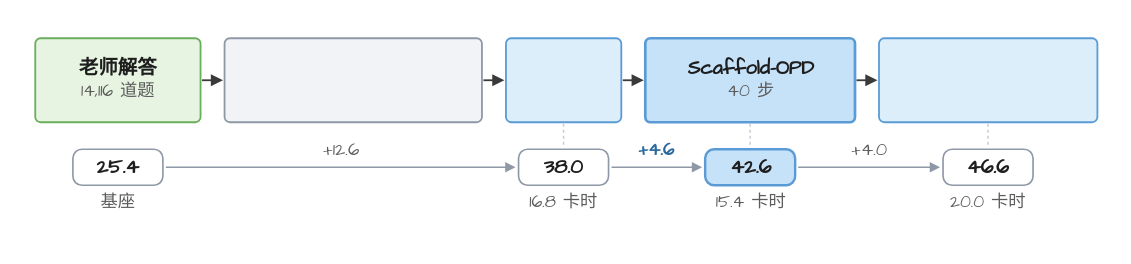
This 1131x264 diagram has some shape labels left out. The centre of each missing label's shape, as x and y in pixels:
SFT 1 轮: the point at 562,79
拒绝采样 保留 11,158 条（79%）: the point at 352,79
错题回流 GRPO 2,212 道题 · 30 步: the point at 987,79
